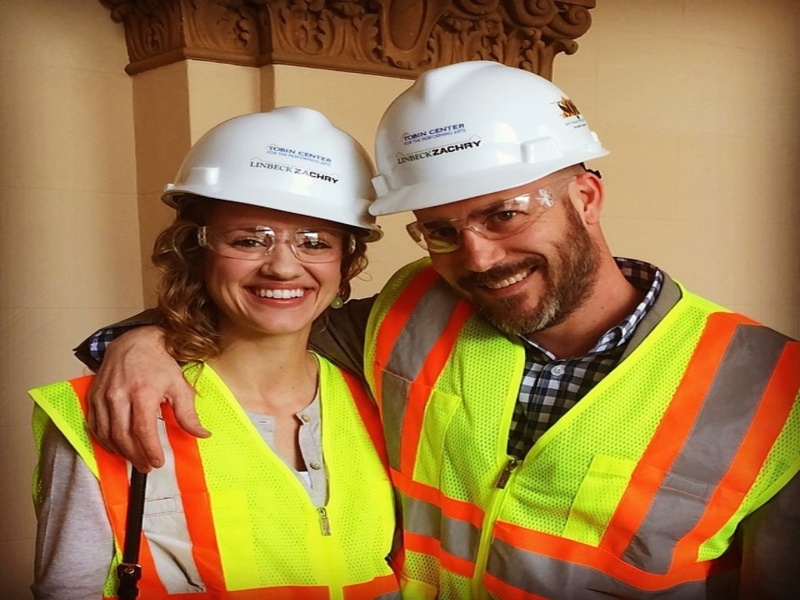helmet: (376, 60, 613, 205), (165, 109, 378, 234)
jacket: (383, 255, 800, 599), (63, 349, 398, 595)
